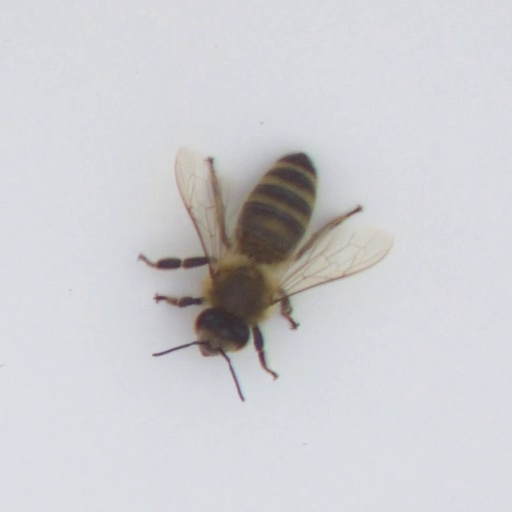Bee: (167, 132, 338, 375)
Thorax: (206, 262, 277, 316)
